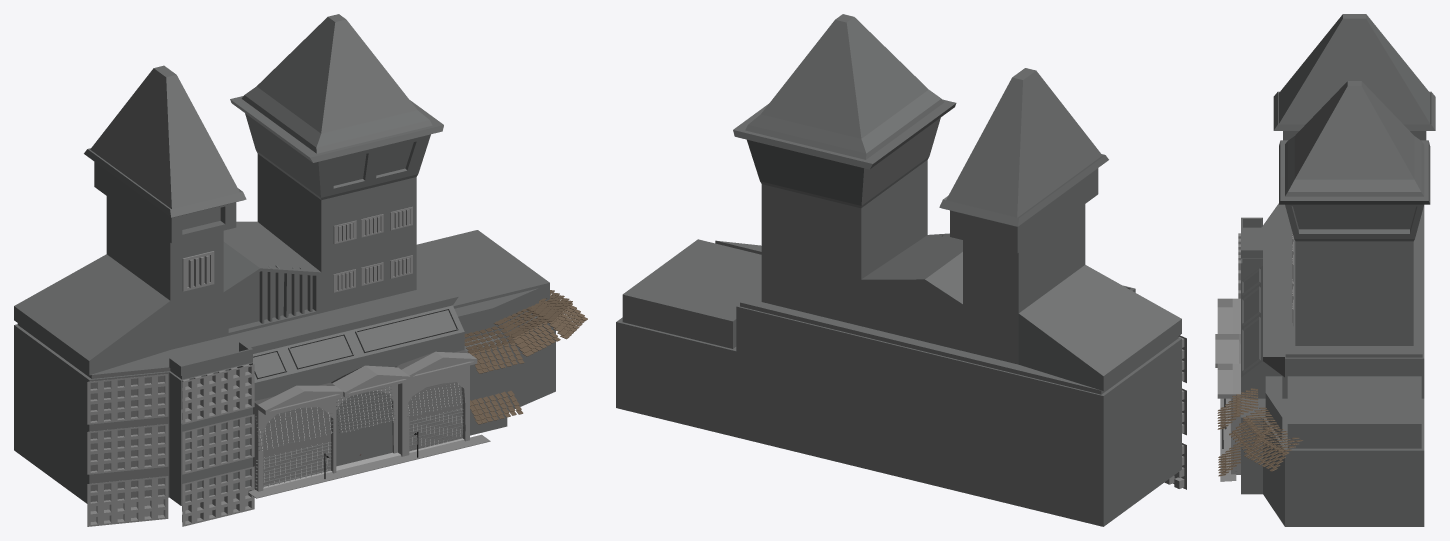
File: Castle-NoDoor.fbx
3 renders of one model, left to right at view 1: azimuth 30°, elevation 25°; view 2: azimuth 150°, elevation 25°; view 3: azimuth 270°, elevation 25°, orthographic. The views are drawn at different scales.
Visible parts, largest first — view 1: Plane.044; view 2: Plane.044; view 3: Plane.044.
Part boxes in pixels (left/top/right/bottom): Plane.044: left=14, top=14, right=587, bottom=526; Plane.044: left=616, top=14, right=1186, bottom=526; Plane.044: left=1215, top=14, right=1435, bottom=526.
Bounding box in the file's own units: 11013 × 8716 × 4581.
